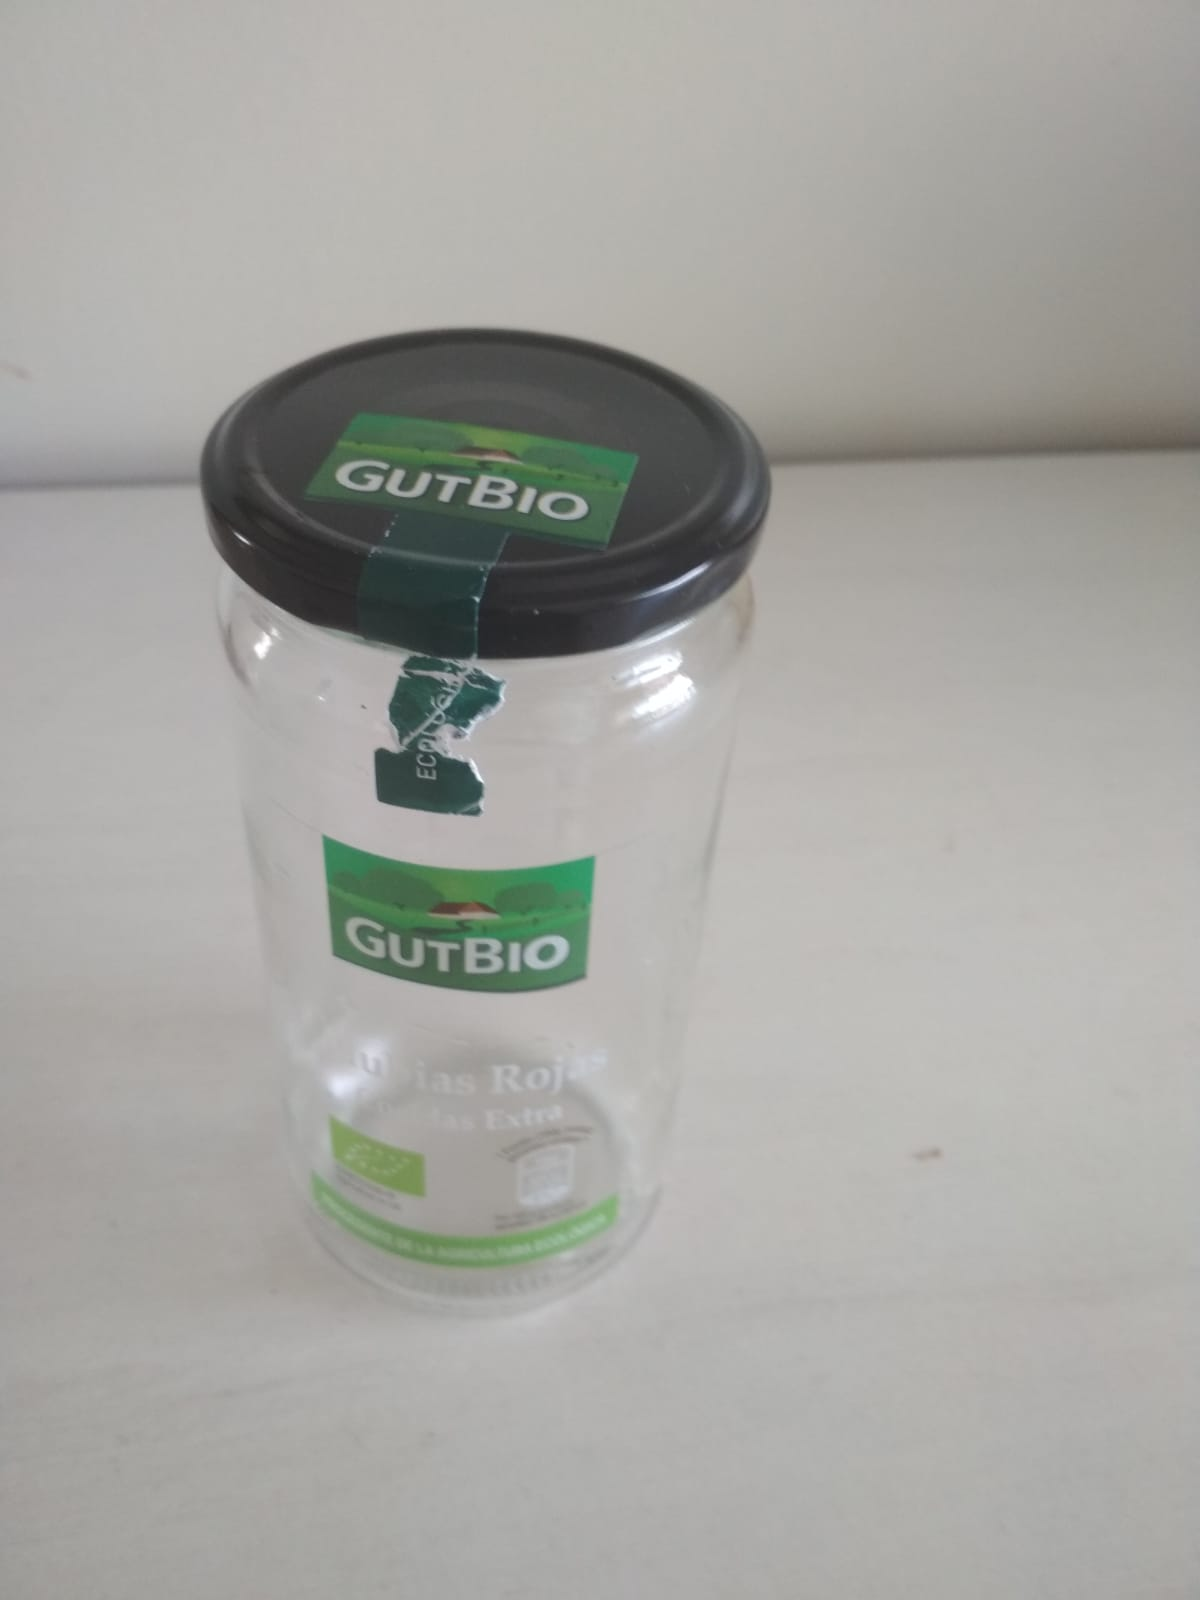pote cristal: (195, 325, 780, 1306)
